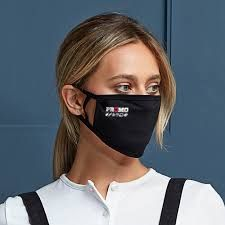with-mask: (60, 46, 174, 165)
